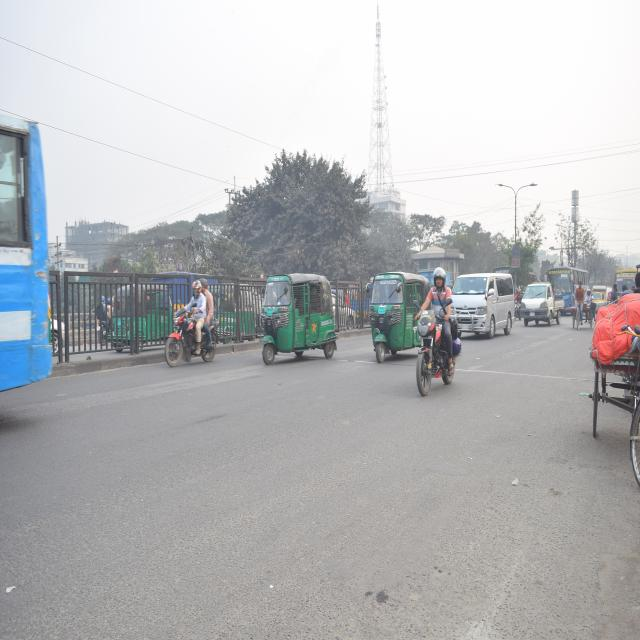bus: (0, 123, 68, 394), (542, 268, 594, 314), (613, 268, 640, 304)
microbus: (451, 279, 522, 350)
motorbike: (412, 267, 476, 420), (167, 270, 228, 373)
pickup-van: (524, 292, 566, 323)
